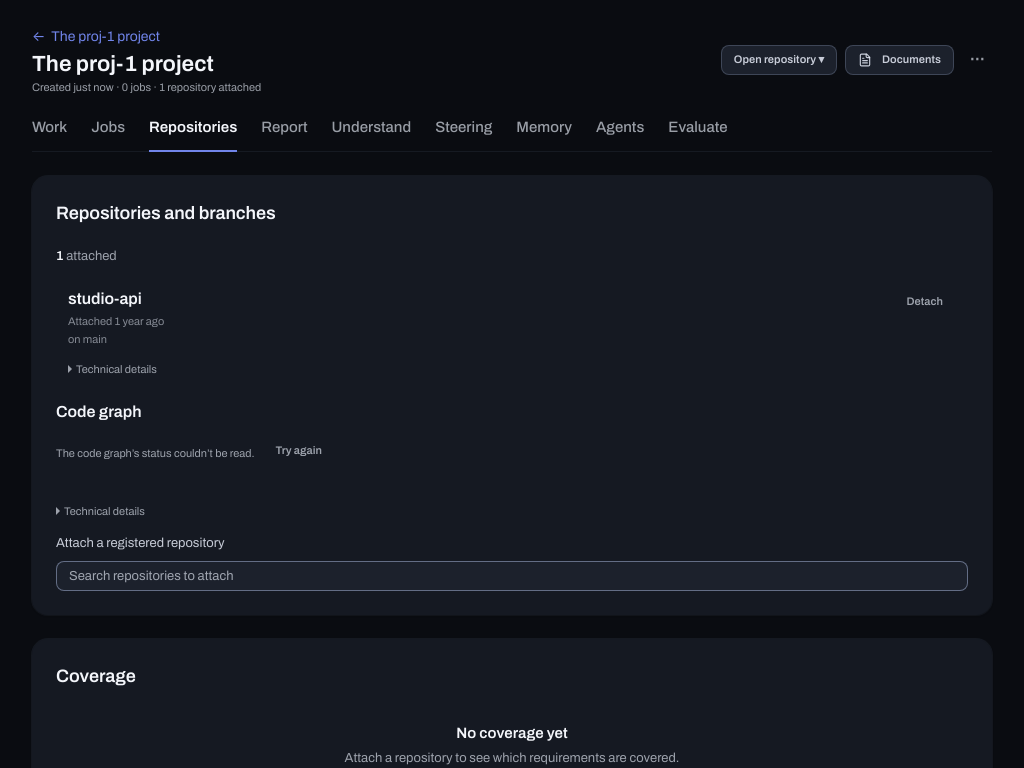
Scenario: ProjectDesk — Repositories section (studio#207) › the picker fetches the registry on focus, excludes already-attached repos, and Attach sends the pinned AttachMemberBody
This screenshot has width=1024, height=768.
Focus the field with test id "project-repo-search": (512,576) [56, 561, 968, 591]
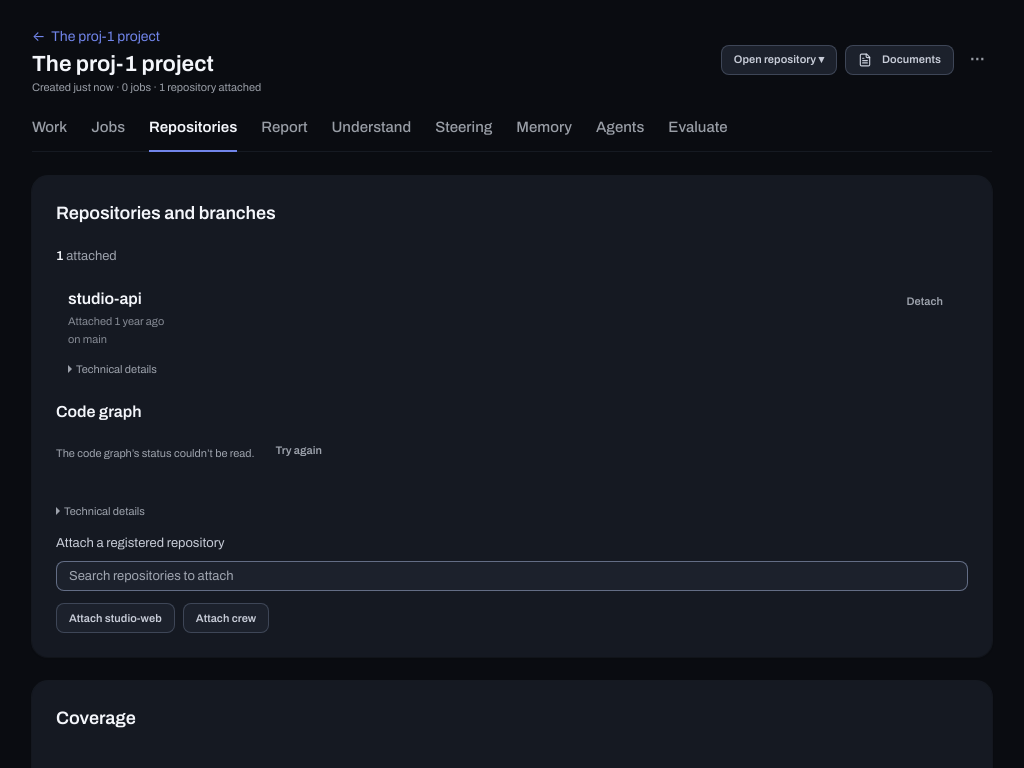
Click the button with test id "project-repo-option" showing "Attach crew": (226,618) [183, 603, 269, 633]
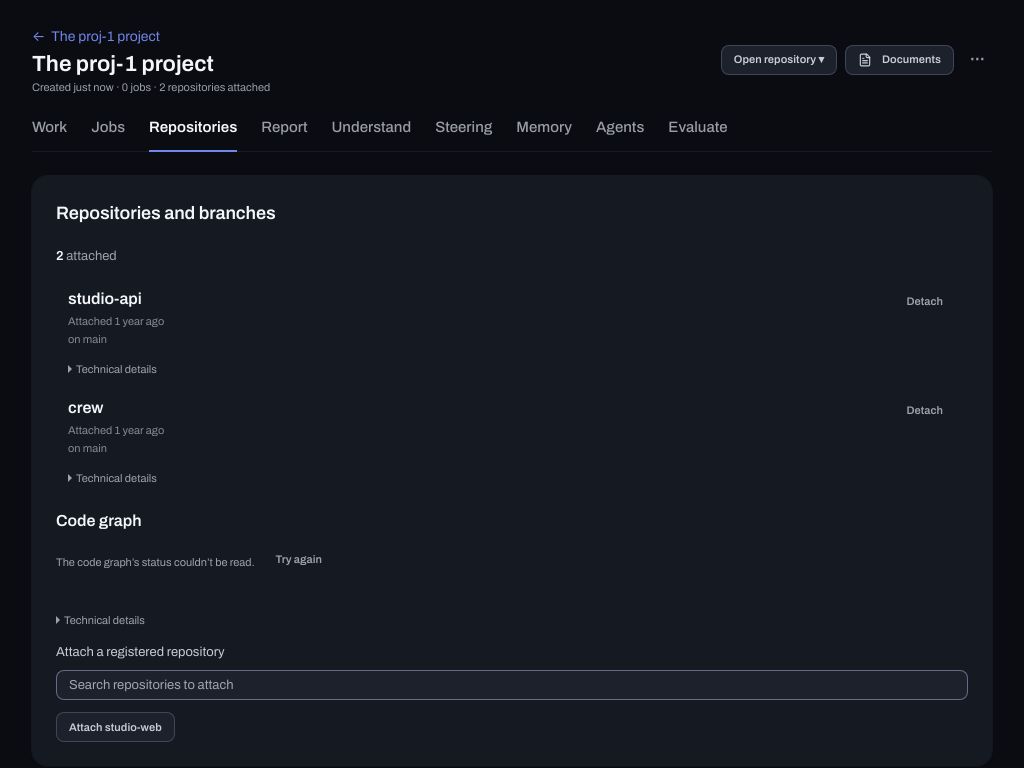
Check: the number of elements with test id "project-repo-row" is 2, box [56, 279, 968, 388]; [56, 388, 968, 497]
